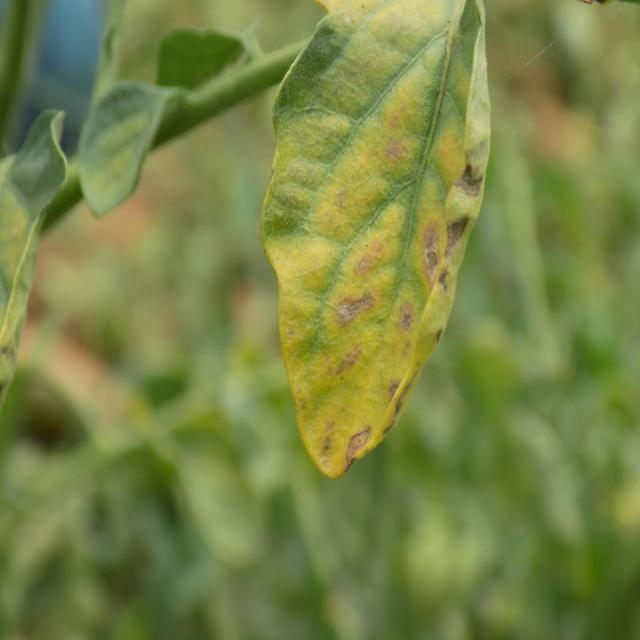tomato_early blight: (264, 0, 494, 479)
